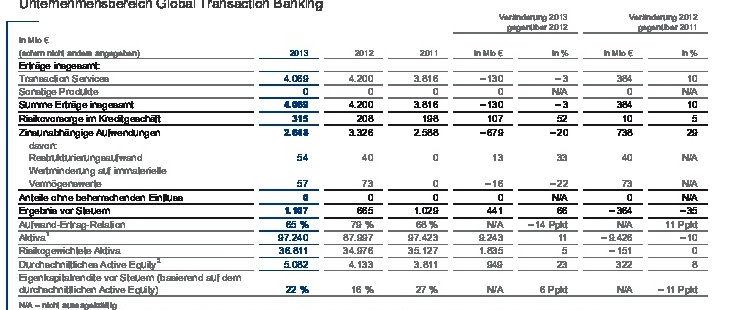table: (0, 0, 729, 310)
